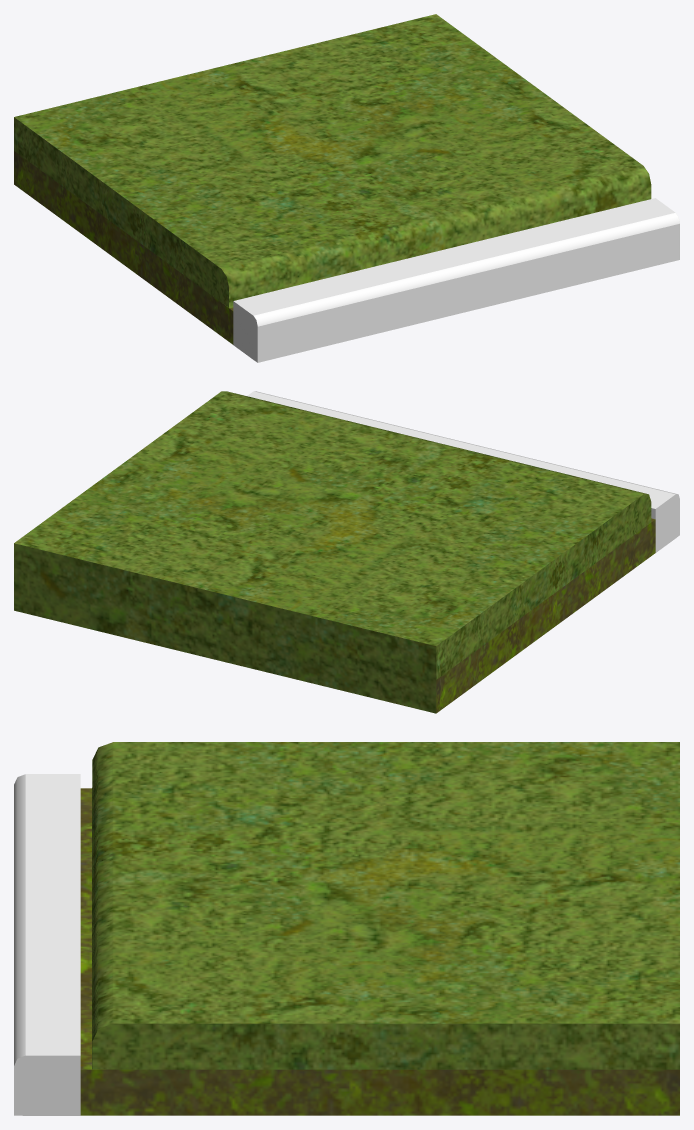
Rendered from Planter_B_01B.fbx.
3 views of the same model, one above another, from view 1: azimuth 30°, elevation 25°; view 2: azimuth 150°, elevation 25°; view 3: azimuth 270°, elevation 25° (orthographic). The views are drawn at different scales.
Parts seen in each view (by area): view 1: Planter_B_01B; view 2: Planter_B_01B; view 3: Planter_B_01B.
Part boxes in pixels (box(x1,y1,x2,y2)): Planter_B_01B: box(14, 14, 679, 362); Planter_B_01B: box(14, 391, 679, 713); Planter_B_01B: box(14, 742, 679, 1115).
Bounding box in the file's own units: 200 × 30.59 × 200.
1 material, 1 textured.
